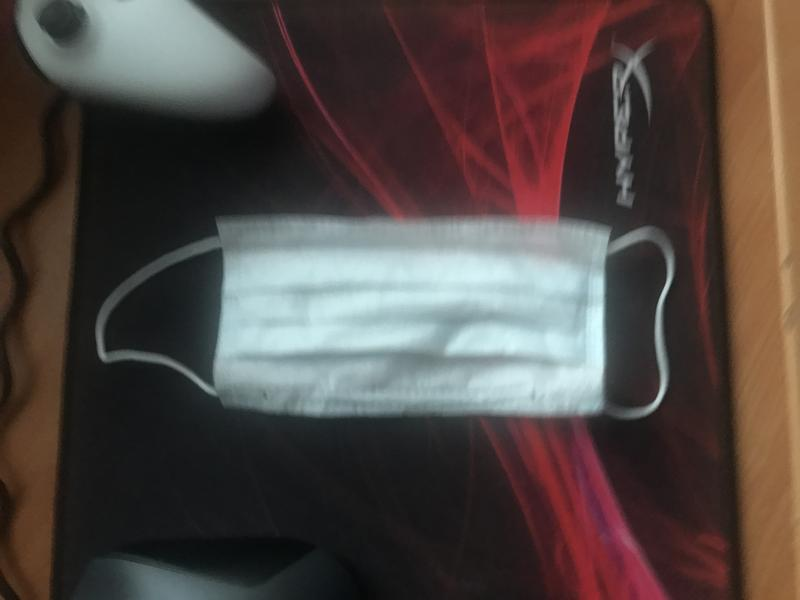medical_mask: (94, 220, 672, 421)
